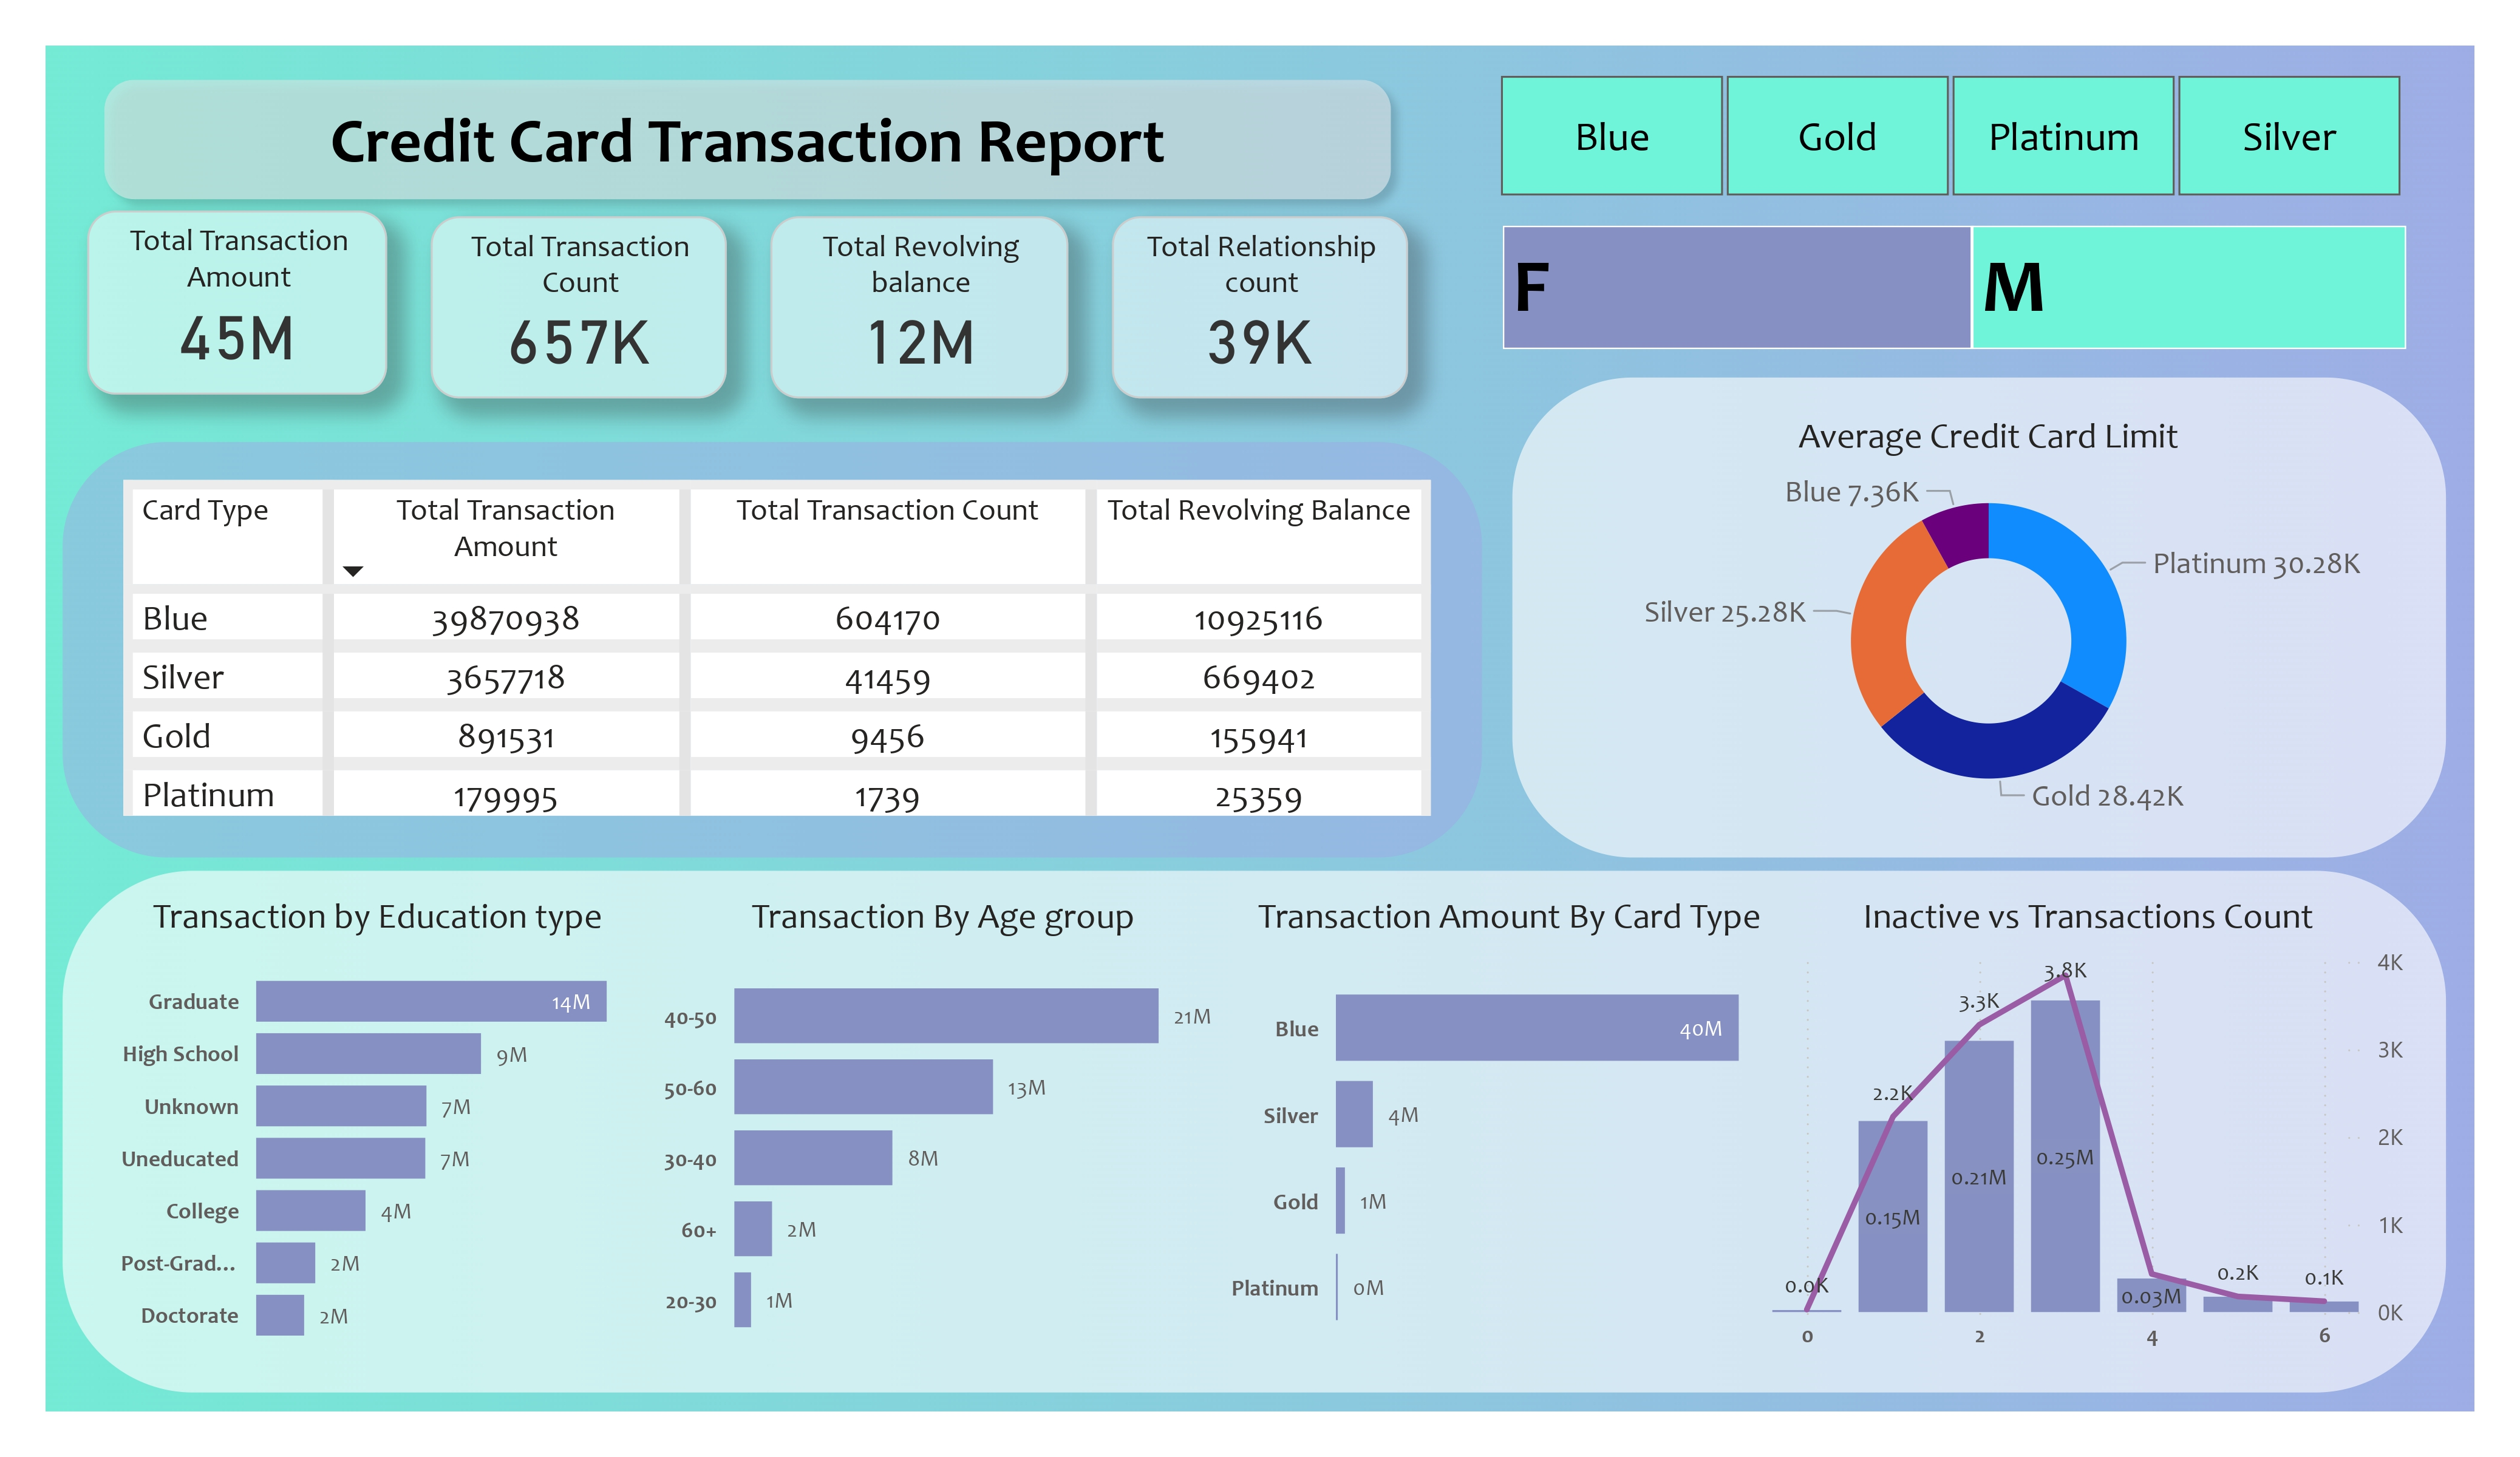

The page's visual inventory and layout, read from the dashboard file:
{"tool":"powerbi","page":{"name":"Credit card Transaction report","canvas":[1280,720],"ordinal":1},"visuals":[{"type":"shape","box":[772.6,175,492.9,252.6],"z":0},{"type":"shape","box":[8.6,435,1256.8,274.8],"z":1000},{"type":"shape","box":[8.6,209.5,747.9,218.1],"z":2000},{"type":"advanceCardE03760C5AB684758B56AA29F9E6C257B","title":"Total Transaction Count","fields":{"mainMeasure":["Sum(BankChurners.Total_Trans_Ct)"]},"box":[202.9,90,156.5,96.1],"z":3000},{"type":"advanceCardE03760C5AB684758B56AA29F9E6C257B","title":"Total Revolving balance","fields":{"mainMeasure":["Sum(BankChurners.Total_Revolving_Bal)"]},"box":[382.4,90,156.5,96.1],"z":4000},{"type":"advanceCardE03760C5AB684758B56AA29F9E6C257B","title":"Total Relationship count","fields":{"mainMeasure":["Sum(BankChurners.Total_Relationship_Count)"]},"box":[561.9,90,156.5,96.1],"z":5000},{"type":"tableEx","fields":{"Values":["BankChurners.Card_Category","Sum(BankChurners.Trans_Amt)","Sum(BankChurners.Total_Trans_Ct)","Sum(BankChurners.Total_Revolving_Bal)"]},"box":[34.5,224.3,706,203.3],"z":6000},{"type":"slicer","fields":{"Values":["BankChurners.Card_Category"]},"box":[741.1,8.7,524.2,76.8],"z":7000},{"type":"clusteredBarChart","title":"Transaction by Education type","fields":{"Y":["Sum(BankChurners.Trans_Amt)"],"Category":["BankChurners.Education_Level"]},"box":[22.3,447.4,306.1,249.1],"z":8000},{"type":"clusteredBarChart","title":"Transaction By Age group","fields":{"Y":["Sum(BankChurners.Trans_Amt)"],"Category":["BankChurners.AgeGroup"]},"box":[320.4,447.4,306.1,249.1],"z":9000},{"type":"clusteredBarChart","title":"Transaction Amount By Card Type","fields":{"Category":["BankChurners.Card_Category"],"Y":["Sum(BankChurners.Trans_Amt)"]},"box":[618.4,447.4,306.1,249.1],"z":10000},{"type":"shape","box":[22.2,8.6,696.2,81.3],"z":11000},{"type":"advanceCardE03760C5AB684758B56AA29F9E6C257B","title":"Total Transaction Amount","fields":{"mainMeasure":["Sum(BankChurners.Trans_Amt)"]},"box":[22.2,87.5,157.7,96.1],"z":12000},{"type":"treemap","fields":{"Group":["BankChurners.Gender"],"Values":["Sum(BankChurners.Trans_Amt)"]},"box":[762.7,90,486,75.2],"z":13000},{"type":"donutChart","title":"Average Credit Card Limit","fields":{"Category":["BankChurners.Card_Category"],"Y":["Avg(BankChurners.Credit_Limit)"]},"box":[782,194,483.6,217.5],"z":14000},{"type":"lineStackedColumnComboChart","title":"Inactive vs Transactions Count","fields":{"Y":["Sum(BankChurners.Total_Trans_Ct)"],"Y2":["Count(BankChurners.CLIENTNUM)"],"Category":["BankChurners.Months_Inactive_12_mon"]},"box":[904.7,447.4,343.3,249.1],"z":15000}]}

Visuals, with their boxes on the page's 1280x720 design canvas (x1, y1, x2, y2). These are canvas units, not pixel positions in the 2520x1457 screenshot, which may show the page scaled, cropped or inside an application window:
shape: {"x1": 773, "y1": 175, "x2": 1266, "y2": 428}
shape: {"x1": 9, "y1": 435, "x2": 1265, "y2": 710}
shape: {"x1": 9, "y1": 210, "x2": 756, "y2": 428}
"Total Transaction Count" advanceCardE03760C5AB684758B56AA29F9E6C257B: {"x1": 203, "y1": 90, "x2": 359, "y2": 186}
"Total Revolving balance" advanceCardE03760C5AB684758B56AA29F9E6C257B: {"x1": 382, "y1": 90, "x2": 539, "y2": 186}
"Total Relationship count" advanceCardE03760C5AB684758B56AA29F9E6C257B: {"x1": 562, "y1": 90, "x2": 718, "y2": 186}
tableEx - BankChurners.Card_Category x Sum(BankChurners.Trans_Amt): {"x1": 34, "y1": 224, "x2": 740, "y2": 428}
slicer - BankChurners.Card_Category: {"x1": 741, "y1": 9, "x2": 1265, "y2": 86}
"Transaction by Education type" clusteredBarChart: {"x1": 22, "y1": 447, "x2": 328, "y2": 696}
"Transaction By Age group" clusteredBarChart: {"x1": 320, "y1": 447, "x2": 626, "y2": 696}
"Transaction Amount By Card Type" clusteredBarChart: {"x1": 618, "y1": 447, "x2": 924, "y2": 696}
shape: {"x1": 22, "y1": 9, "x2": 718, "y2": 90}
"Total Transaction Amount" advanceCardE03760C5AB684758B56AA29F9E6C257B: {"x1": 22, "y1": 88, "x2": 180, "y2": 184}
treemap - BankChurners.Gender x Sum(BankChurners.Trans_Amt): {"x1": 763, "y1": 90, "x2": 1249, "y2": 165}
"Average Credit Card Limit" donutChart: {"x1": 782, "y1": 194, "x2": 1266, "y2": 412}
"Inactive vs Transactions Count" lineStackedColumnComboChart: {"x1": 905, "y1": 447, "x2": 1248, "y2": 696}
